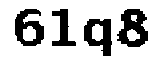1: (49, 3, 78, 49)
6: (12, 4, 46, 50)
8: (117, 5, 152, 53)
q: (83, 16, 117, 60)
